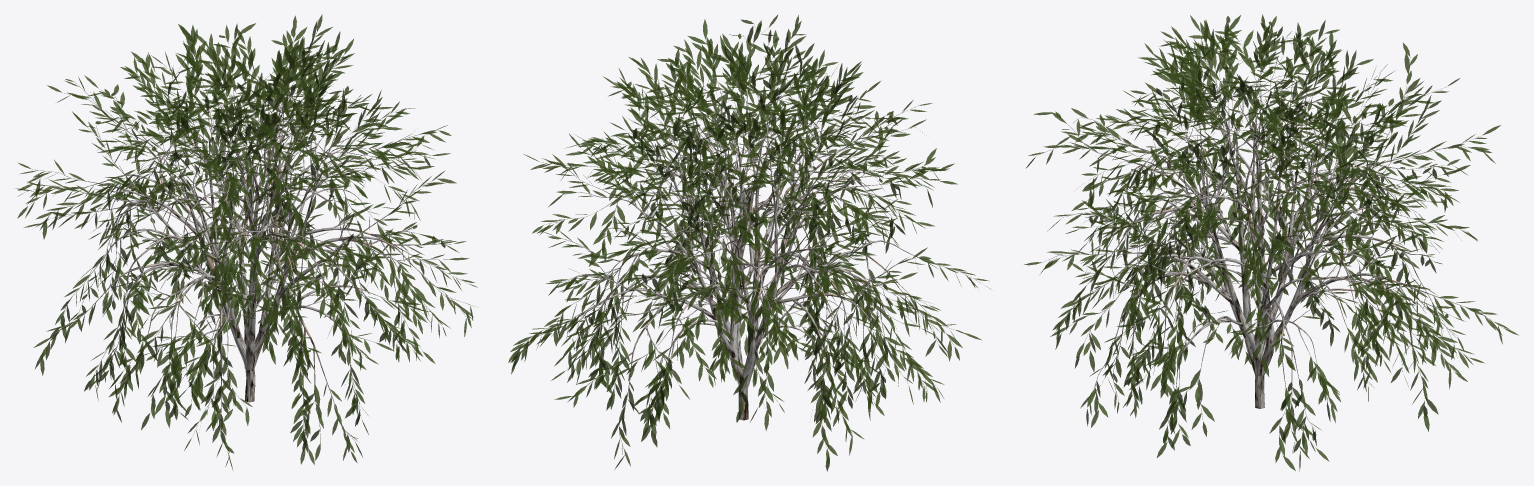
The model's file is Light Wood Tree 2.fbx.
The picture shows the model from 3 angles, left to right: view 1: azimuth 30°, elevation 25°; view 2: azimuth 150°, elevation 25°; view 3: azimuth 270°, elevation 25°; orthographic projection. The views are drawn at different scales.
Visible parts, largest first — view 1: leaves 2.002, Light Wood Tree 2; view 2: leaves 2.002, Light Wood Tree 2; view 3: leaves 2.002, Light Wood Tree 2.
Part boxes in pixels (x1,y1,x2,y2): leaves 2.002: (14, 14, 477, 469); Light Wood Tree 2: (26, 32, 469, 455); leaves 2.002: (508, 14, 991, 471); Light Wood Tree 2: (518, 24, 979, 448); leaves 2.002: (1024, 14, 1518, 471); Light Wood Tree 2: (1038, 25, 1502, 454).
Size of the model in its own units: 836 by 767 by 870.
